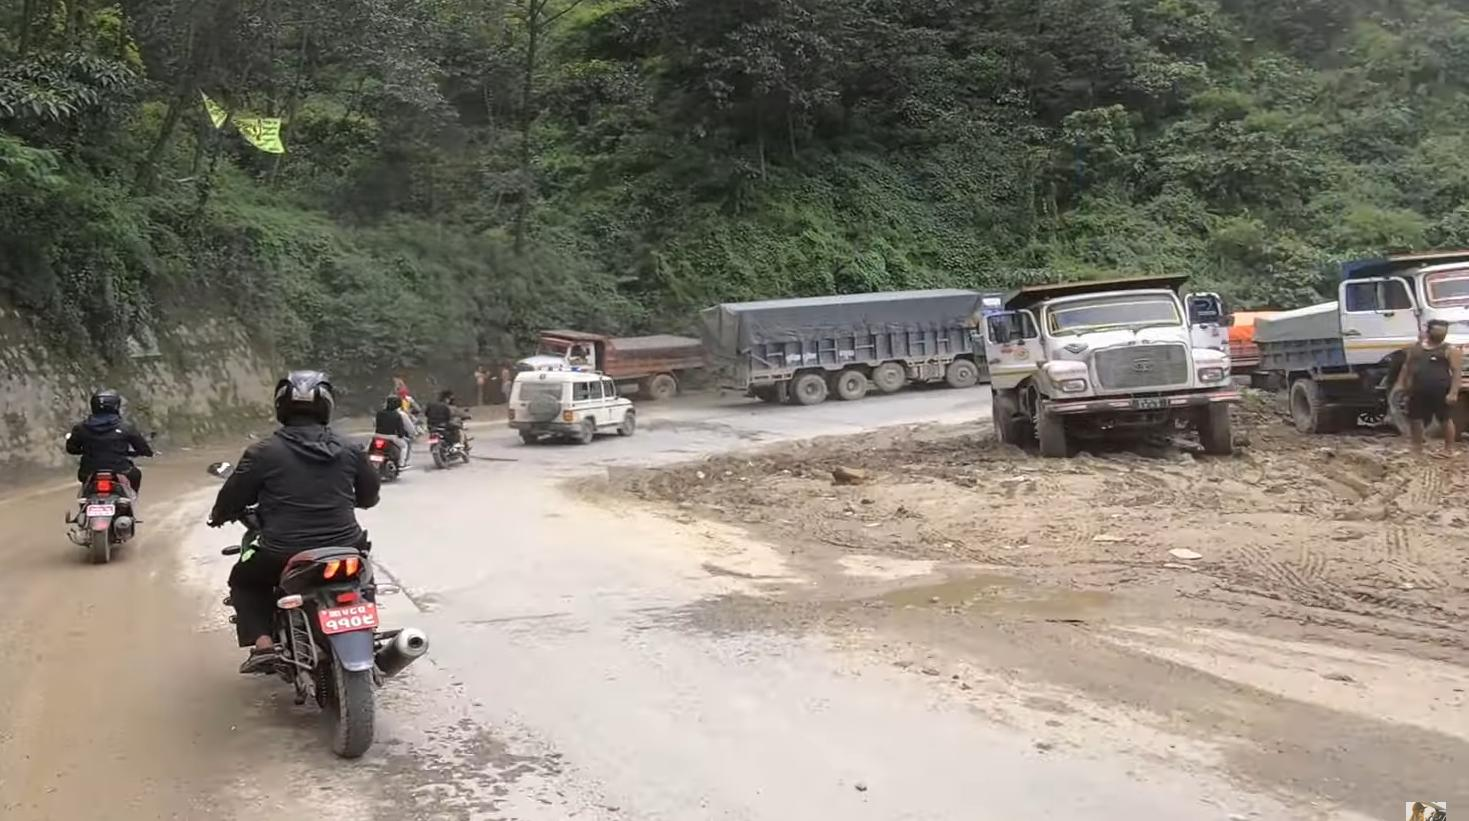ambulance: (501, 357, 647, 451)
bike: (202, 450, 436, 771), (422, 410, 473, 467)
scooter: (55, 419, 164, 570)
truck: (989, 267, 1258, 463), (703, 280, 1019, 404)
